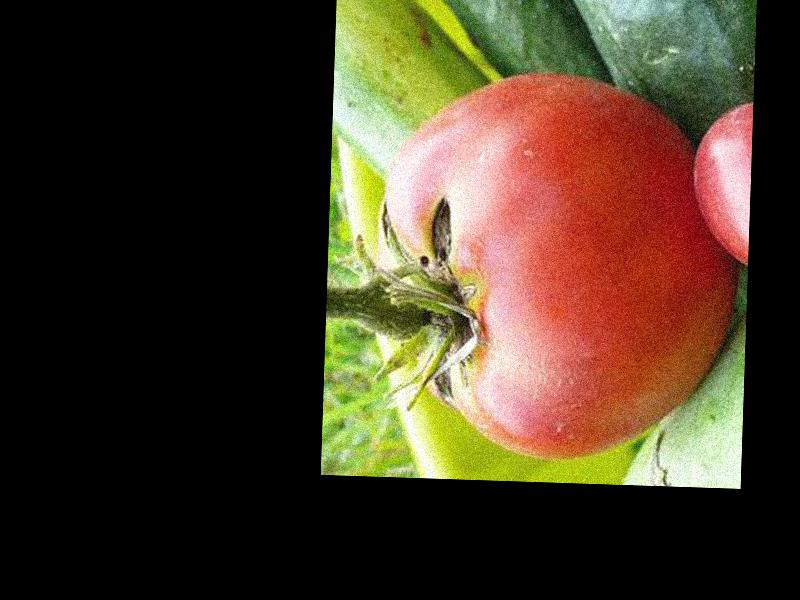Tomato: (375, 71, 745, 466)
